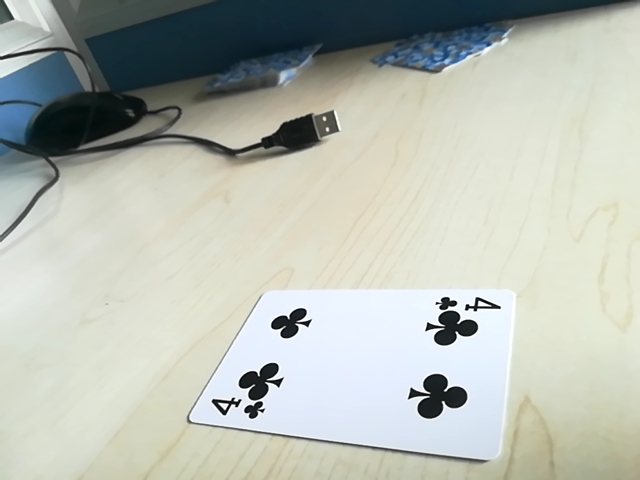mh 4: (201, 386, 277, 422), (430, 291, 503, 318)
